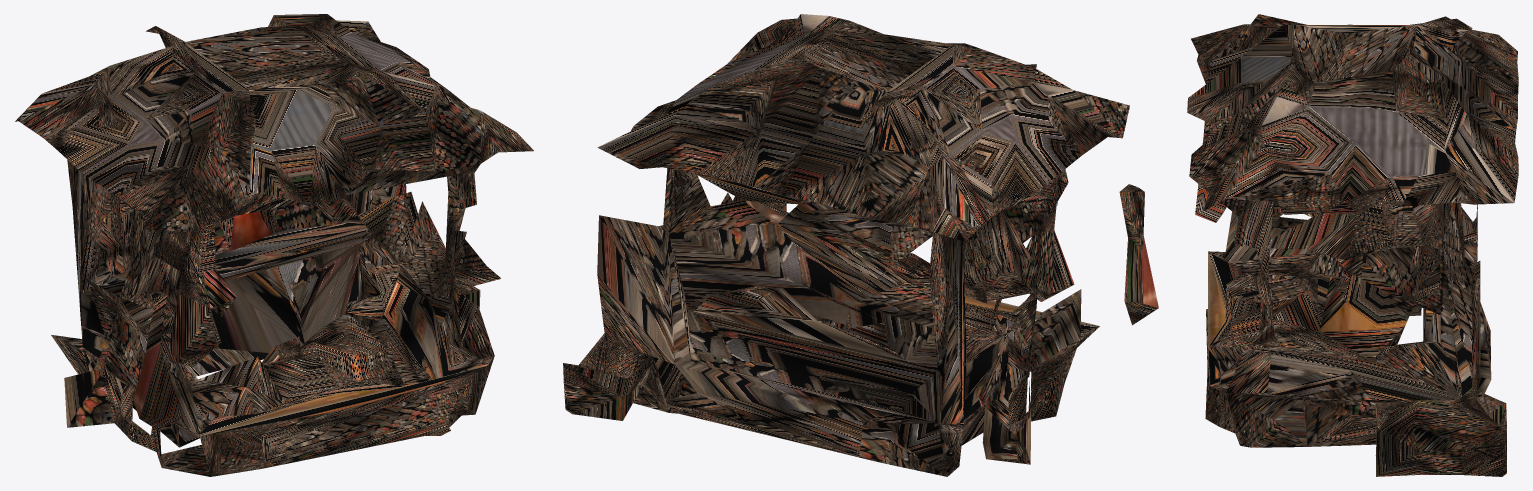
File: meshy_stall_meat_shingle_lod1.glb
3 renders of one model, left to right at view 1: azimuth 30°, elevation 25°; view 2: azimuth 150°, elevation 25°; view 3: azimuth 270°, elevation 25°, orthographic. The views are drawn at different scales.
Bounding box in the file's own units: 3.75 × 2.96 × 2.65.
1 material, 1 textured.
